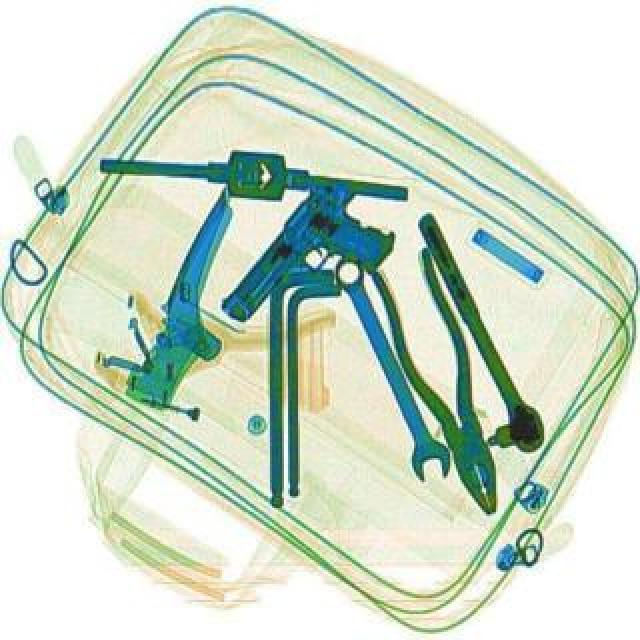gun: (208, 168, 408, 362)
scissors: (322, 248, 456, 484)
wrench: (364, 244, 528, 522)
